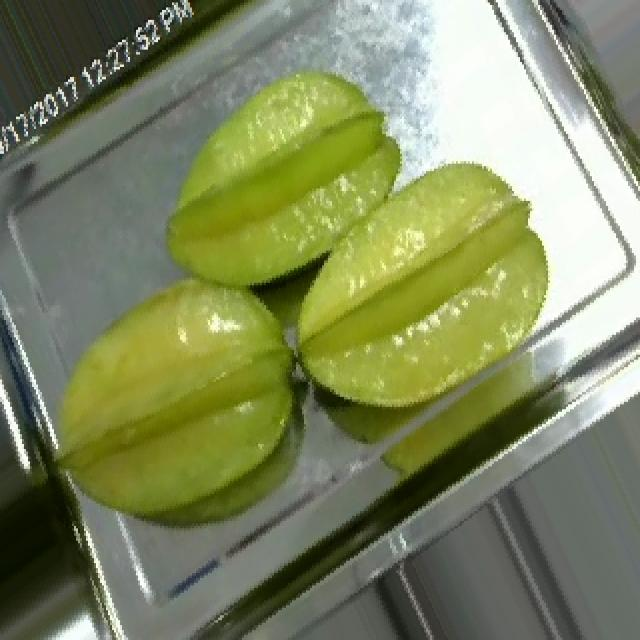fruit: (112, 8, 538, 486)
